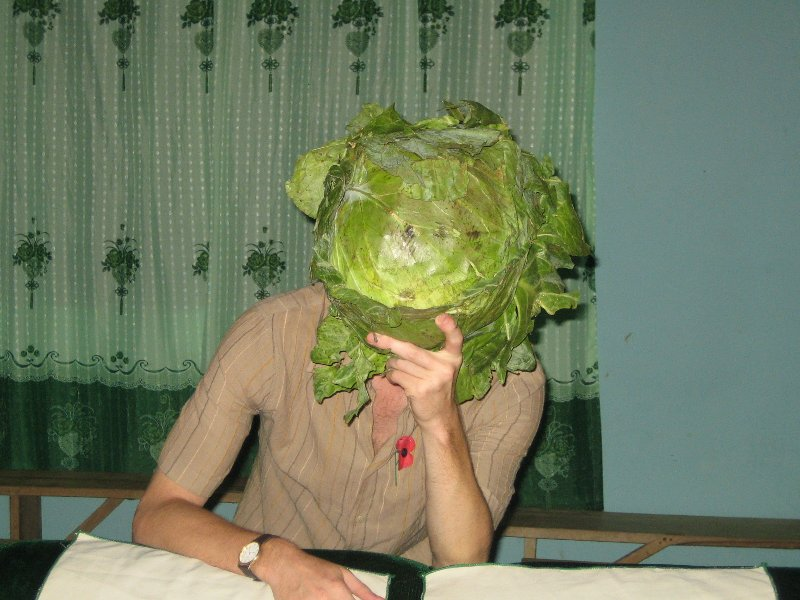cabbage: (282, 96, 597, 426)
